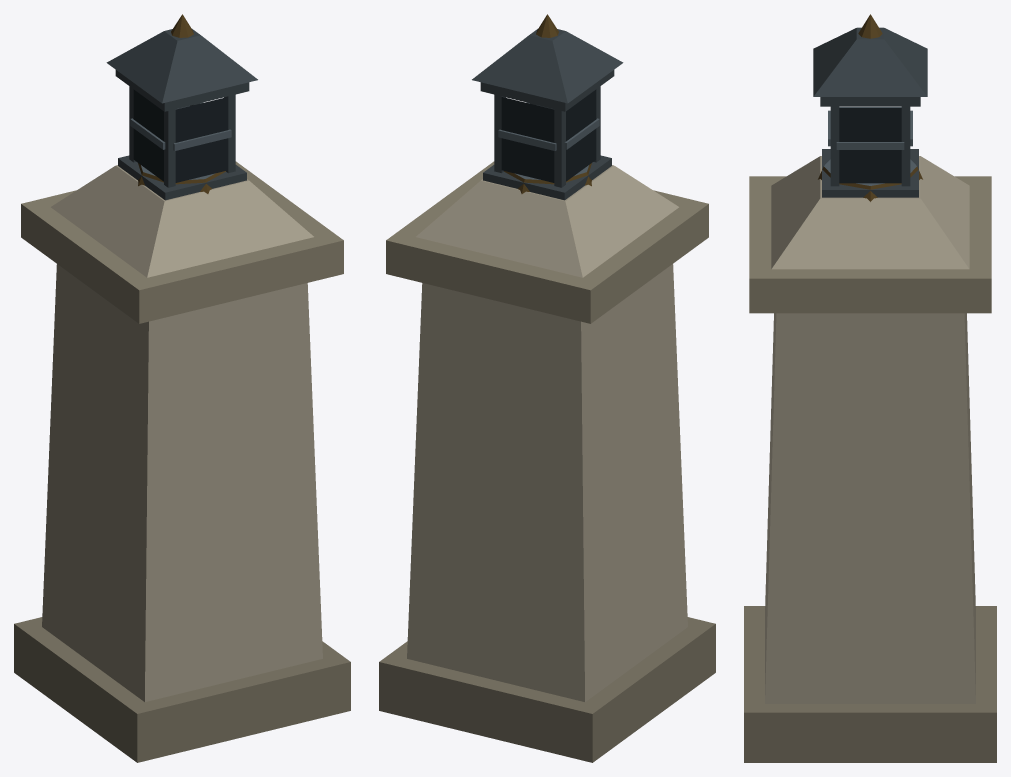
The model's file is lp_court_gate_pier.glb.
3 views of the same model, side by side, from view 1: azimuth 30°, elevation 25°; view 2: azimuth 150°, elevation 25°; view 3: azimuth 270°, elevation 25° (orthographic). The views are drawn at different scales.
Parts seen in each view (by area): view 1: lp_court_gate_pier; view 2: lp_court_gate_pier; view 3: lp_court_gate_pier.
Boxes of the visible parts, x1,y1,x2,y2 form: lp_court_gate_pier: (14, 14, 350, 762); lp_court_gate_pier: (379, 14, 715, 762); lp_court_gate_pier: (744, 14, 996, 762).
Size of the model in its own units: 1.46 by 4.43 by 1.46.
Materials: 1 (1 with a texture image).
